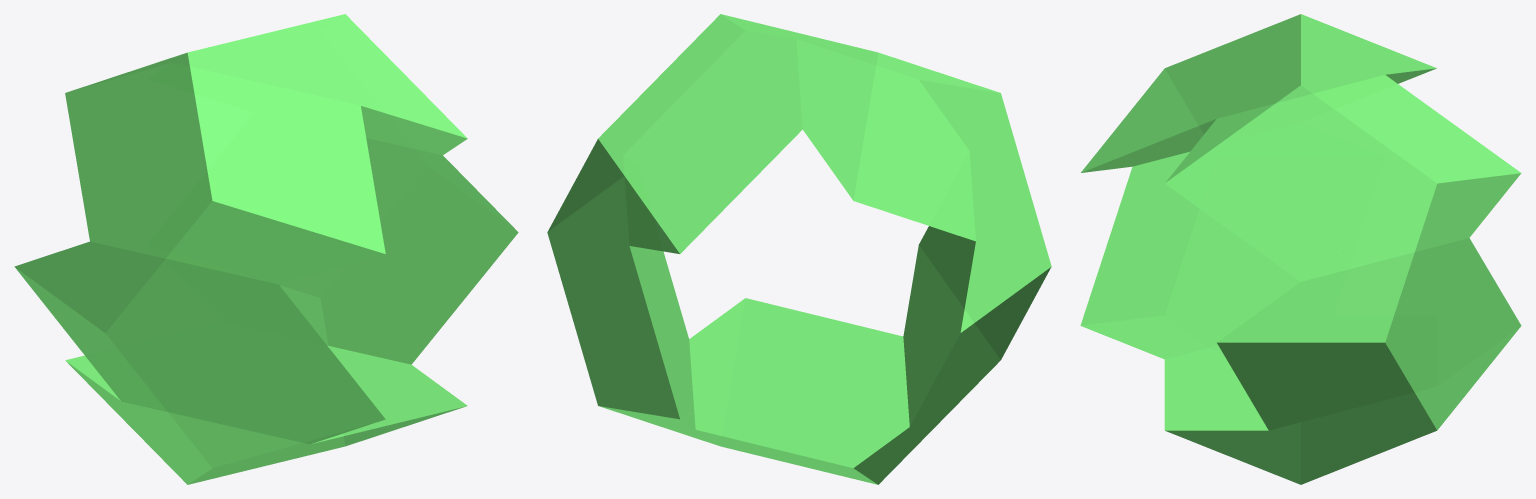
Rendered from HexagonalToroid_R.obj.
The picture shows the model from 3 angles, left to right: view 1: azimuth 30°, elevation 25°; view 2: azimuth 150°, elevation 25°; view 3: azimuth 270°, elevation 25°; orthographic projection. The views are drawn at different scales.
Size of the model in its own units: 3.24 by 3.24 by 3.24.
